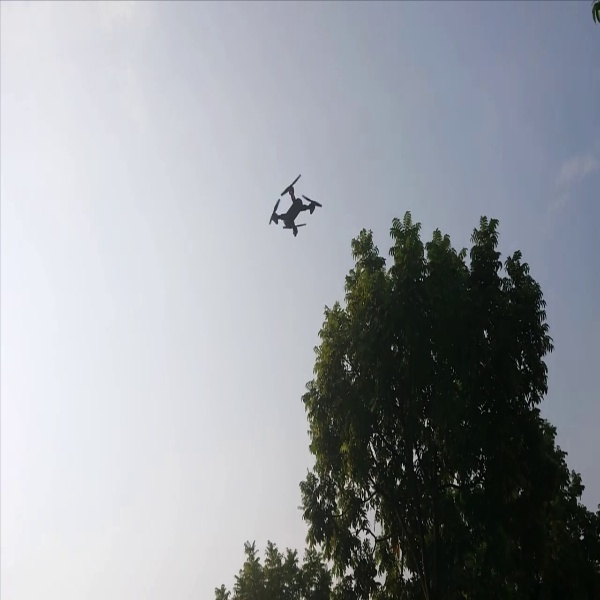drone: (263, 167, 324, 246)
